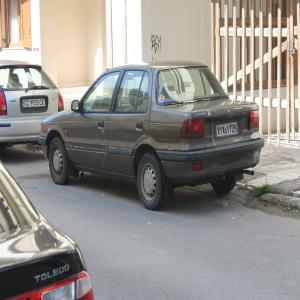Vehicle-registration-plate: (216, 119, 248, 143), (22, 100, 44, 112)
